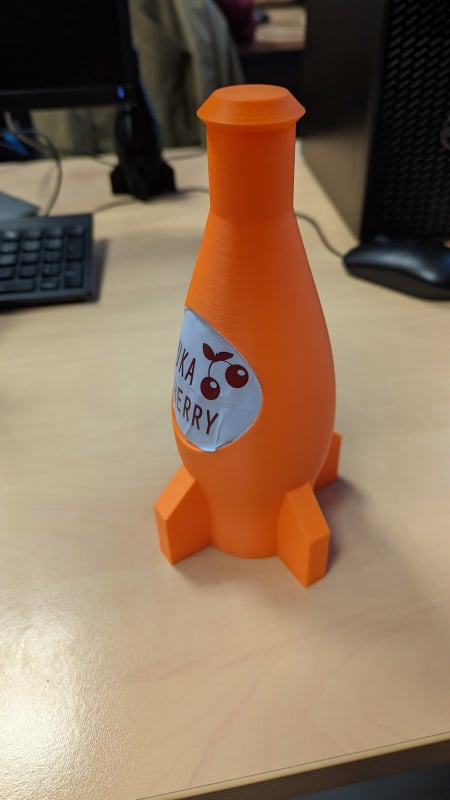bottle: (146, 73, 354, 593)
